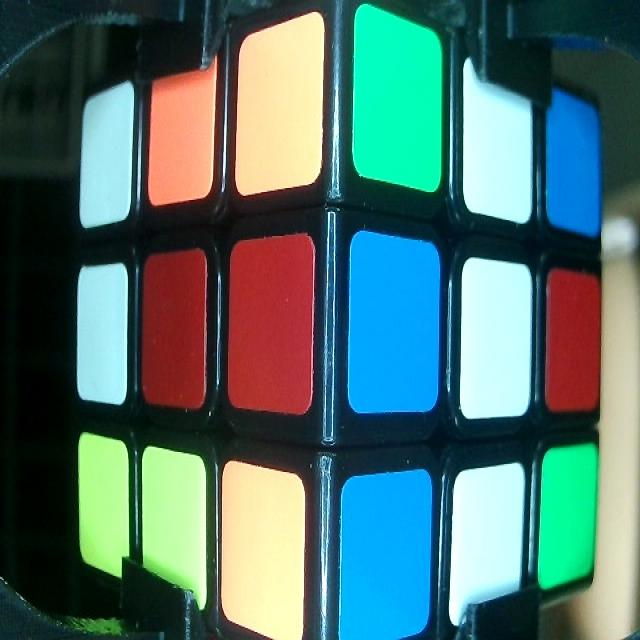b: (352, 236, 438, 410), (342, 476, 427, 640), (550, 96, 600, 226)
g: (355, 3, 442, 188), (541, 449, 599, 598)
o: (220, 462, 304, 634), (238, 32, 322, 191), (149, 62, 213, 206)
r: (231, 240, 309, 414), (145, 256, 203, 406), (548, 270, 598, 409)
w: (464, 61, 534, 218), (461, 259, 528, 415), (454, 471, 520, 620), (82, 89, 132, 227), (79, 267, 129, 399)
y: (144, 448, 203, 602), (78, 434, 128, 572)
